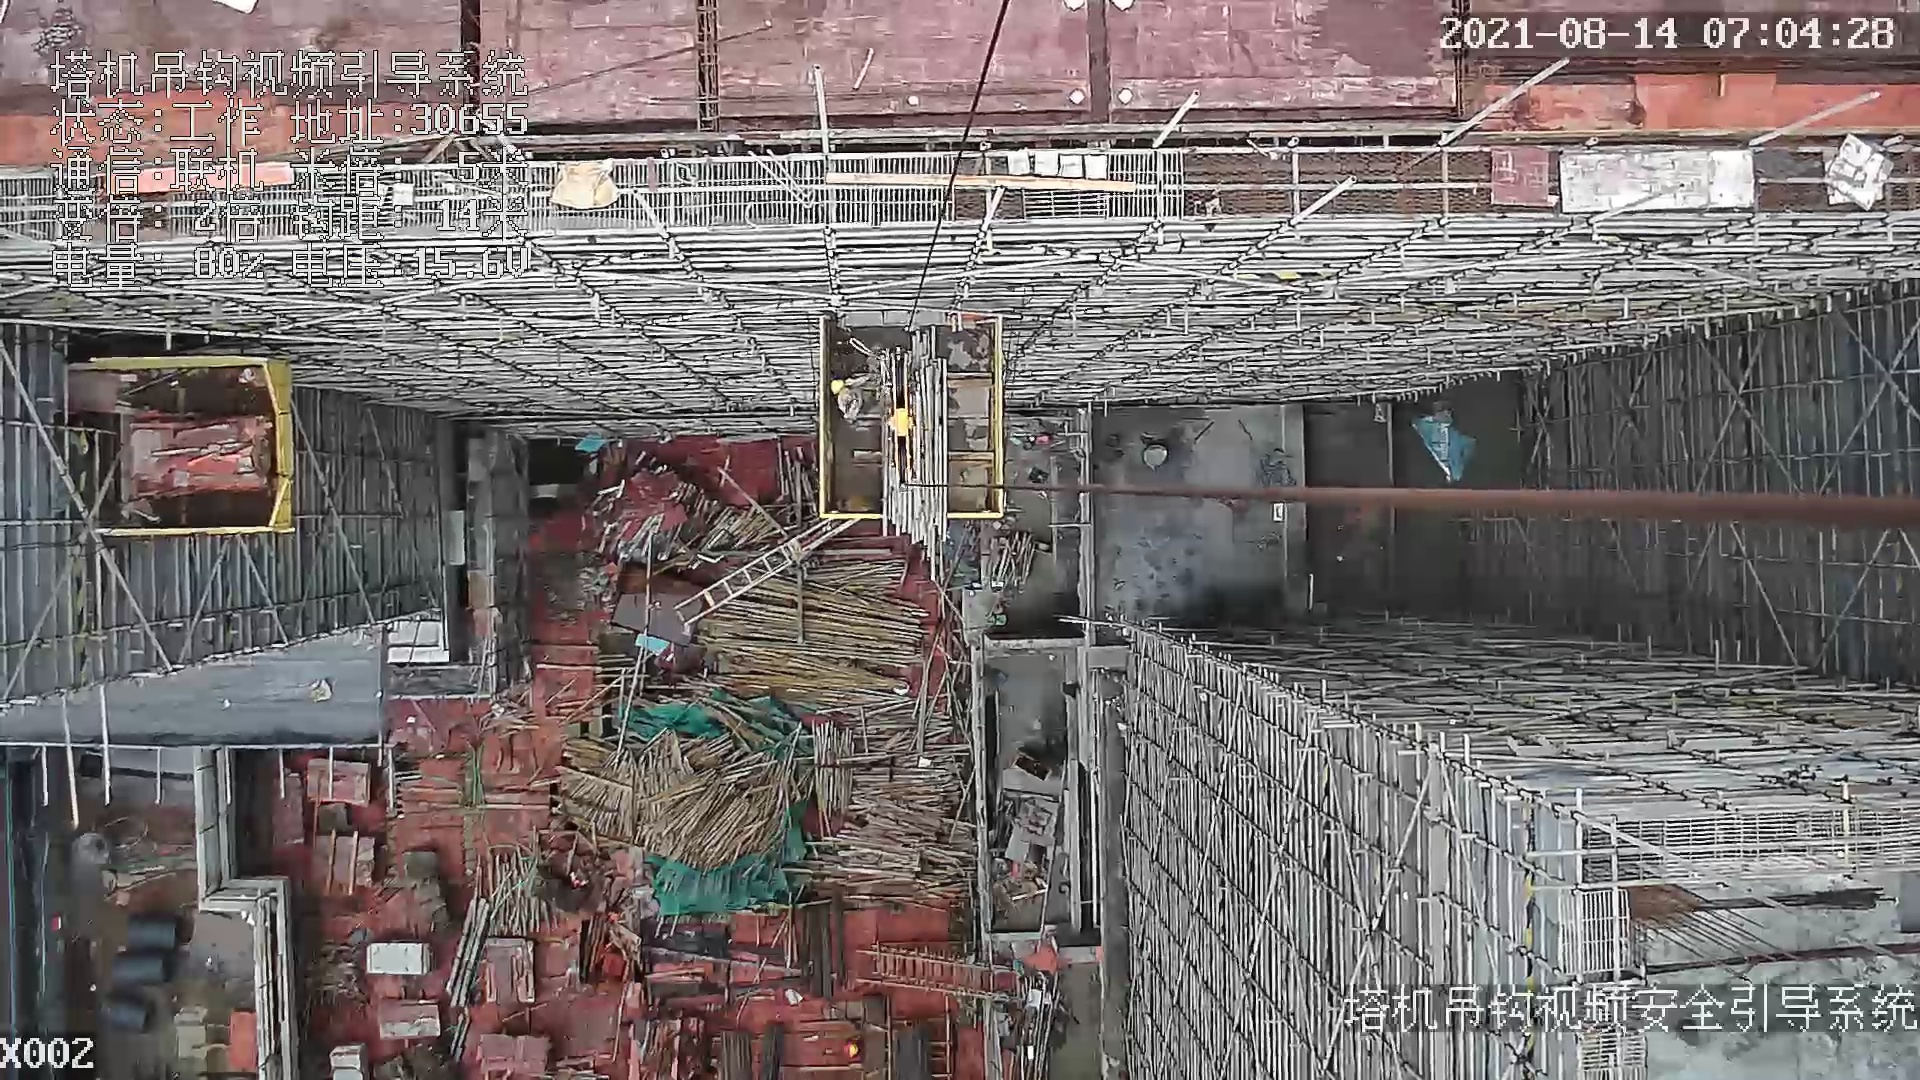hook: (887, 344, 919, 487)
person: (828, 380, 868, 426)
